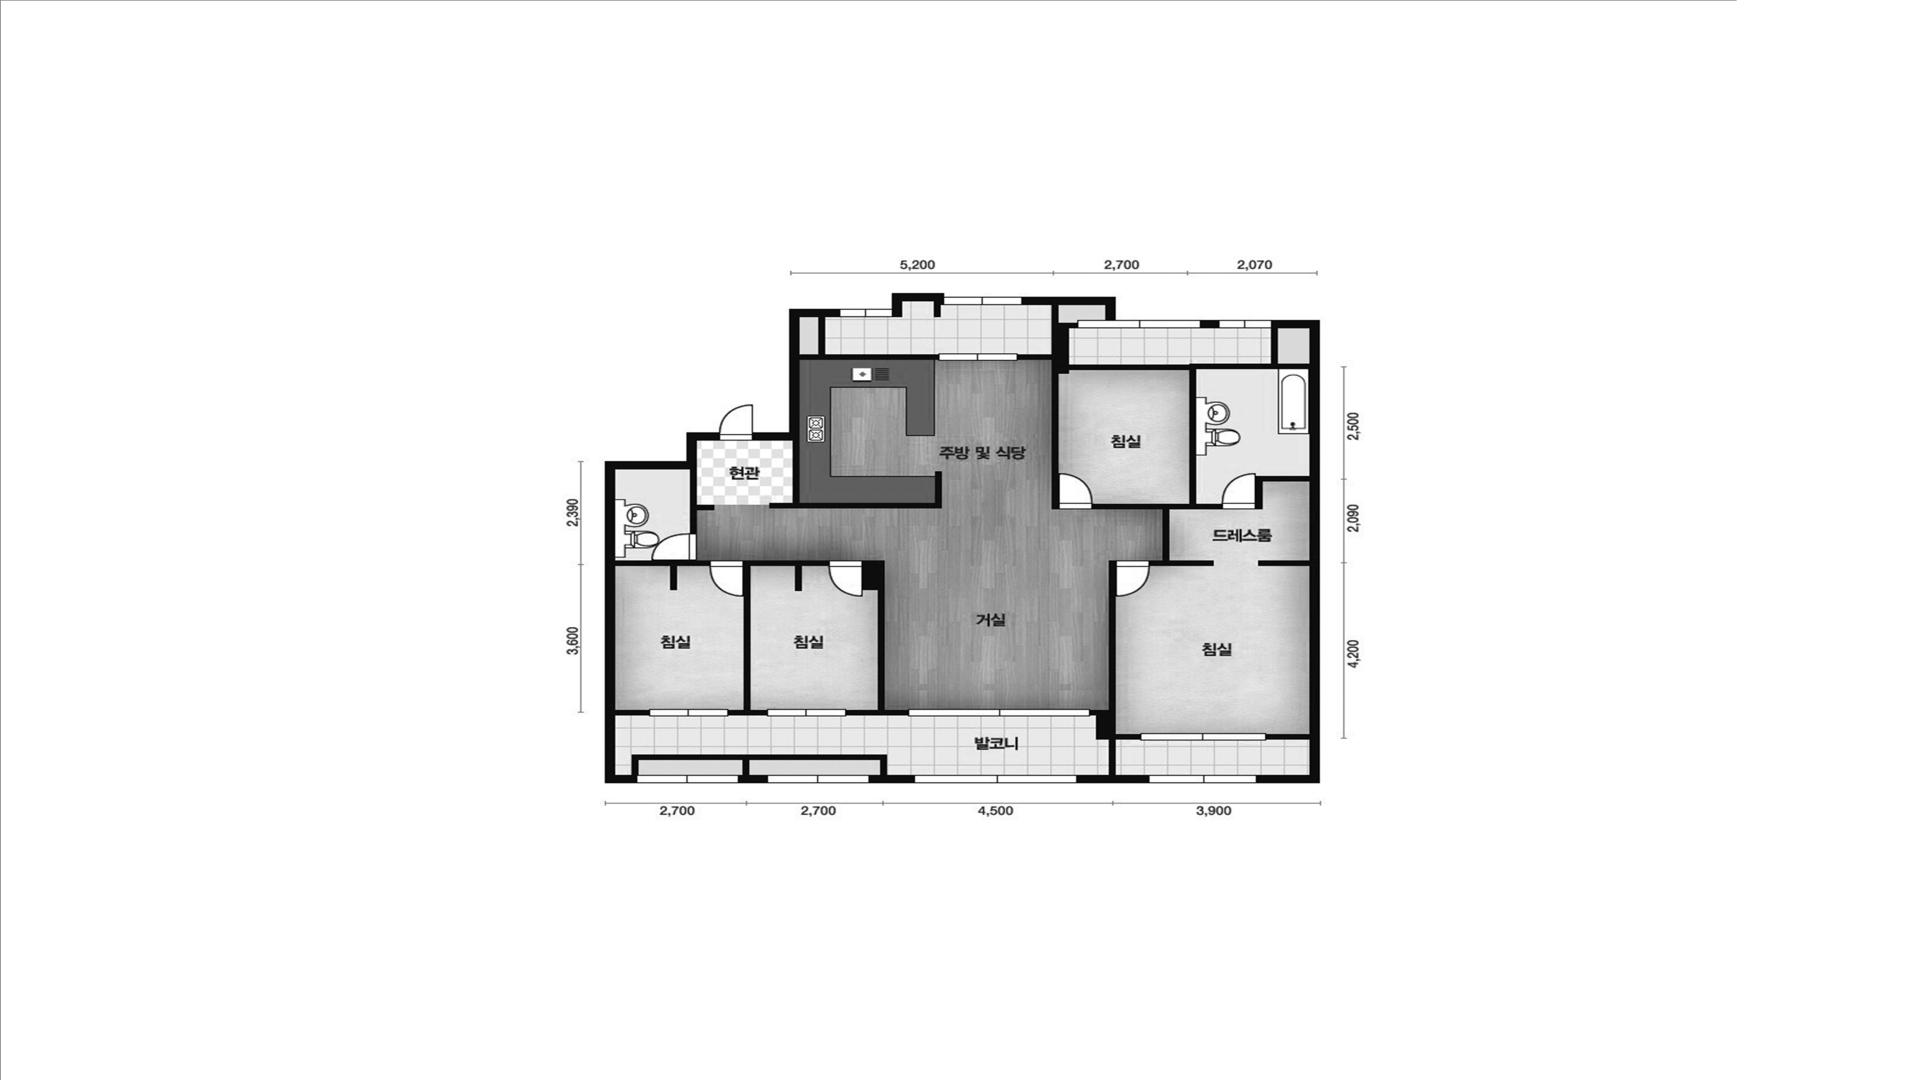door: (1059, 472, 1093, 510), (651, 533, 698, 560), (709, 560, 744, 597), (828, 560, 862, 597), (1221, 473, 1255, 509), (719, 405, 753, 440), (1117, 560, 1150, 596)
wall: (1018, 306, 1308, 566), (605, 433, 720, 783), (1255, 320, 1320, 783), (728, 560, 828, 716), (769, 440, 943, 509), (753, 309, 840, 440), (1089, 560, 1141, 774), (847, 560, 909, 716), (800, 318, 938, 360), (632, 754, 887, 774), (616, 560, 709, 589), (1022, 297, 1116, 320), (1255, 476, 1309, 509), (690, 469, 715, 533), (891, 293, 944, 318), (1076, 774, 1149, 783), (869, 774, 915, 783), (1266, 733, 1309, 740), (1258, 560, 1309, 566), (738, 774, 767, 783), (616, 709, 650, 716), (1200, 320, 1218, 328), (934, 306, 942, 318)
window: (914, 774, 1076, 783), (909, 708, 1089, 716), (1149, 774, 1255, 783), (1077, 320, 1200, 328), (637, 774, 738, 783), (767, 774, 869, 783), (1141, 733, 1266, 740), (944, 297, 1022, 306), (938, 353, 1018, 361), (650, 709, 729, 716), (767, 709, 847, 716), (840, 309, 893, 318), (1218, 320, 1271, 328)
